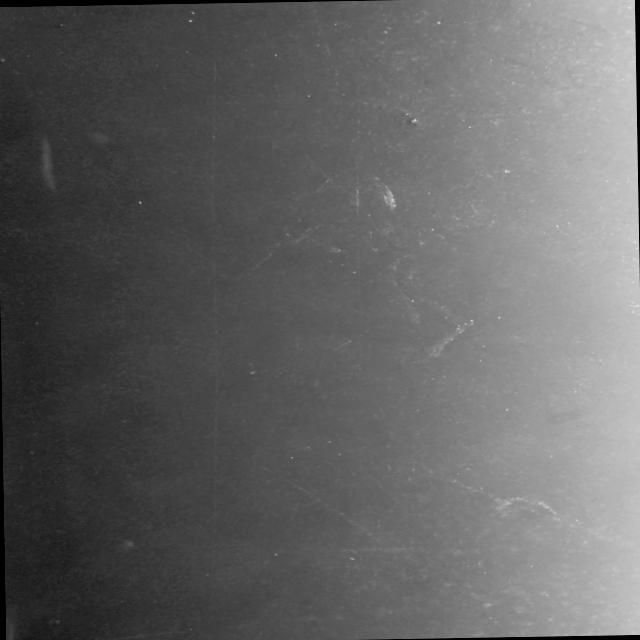beta: (422, 468, 632, 548), (249, 449, 383, 546), (41, 608, 356, 640), (446, 575, 540, 638), (305, 0, 341, 94), (491, 493, 564, 525), (314, 164, 362, 192), (242, 244, 284, 275), (0, 34, 8, 64)
